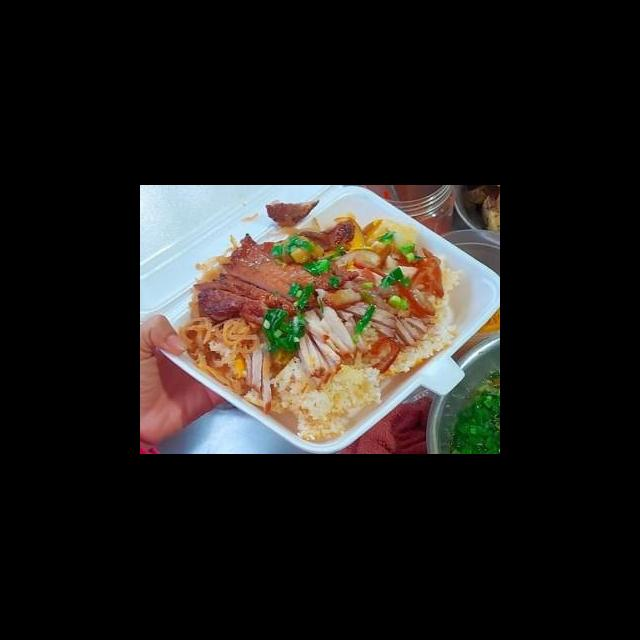bi: (175, 318, 262, 396)
com: (270, 357, 386, 442), (385, 317, 462, 378)
com suon: (167, 218, 476, 450)
suon: (191, 232, 360, 328), (288, 302, 370, 394), (343, 298, 430, 348), (242, 342, 277, 416)
